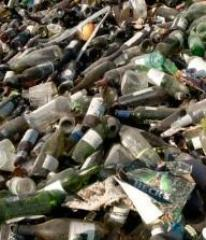glass: (0, 191, 76, 225), (36, 164, 102, 196), (70, 118, 112, 164), (186, 28, 206, 56)
